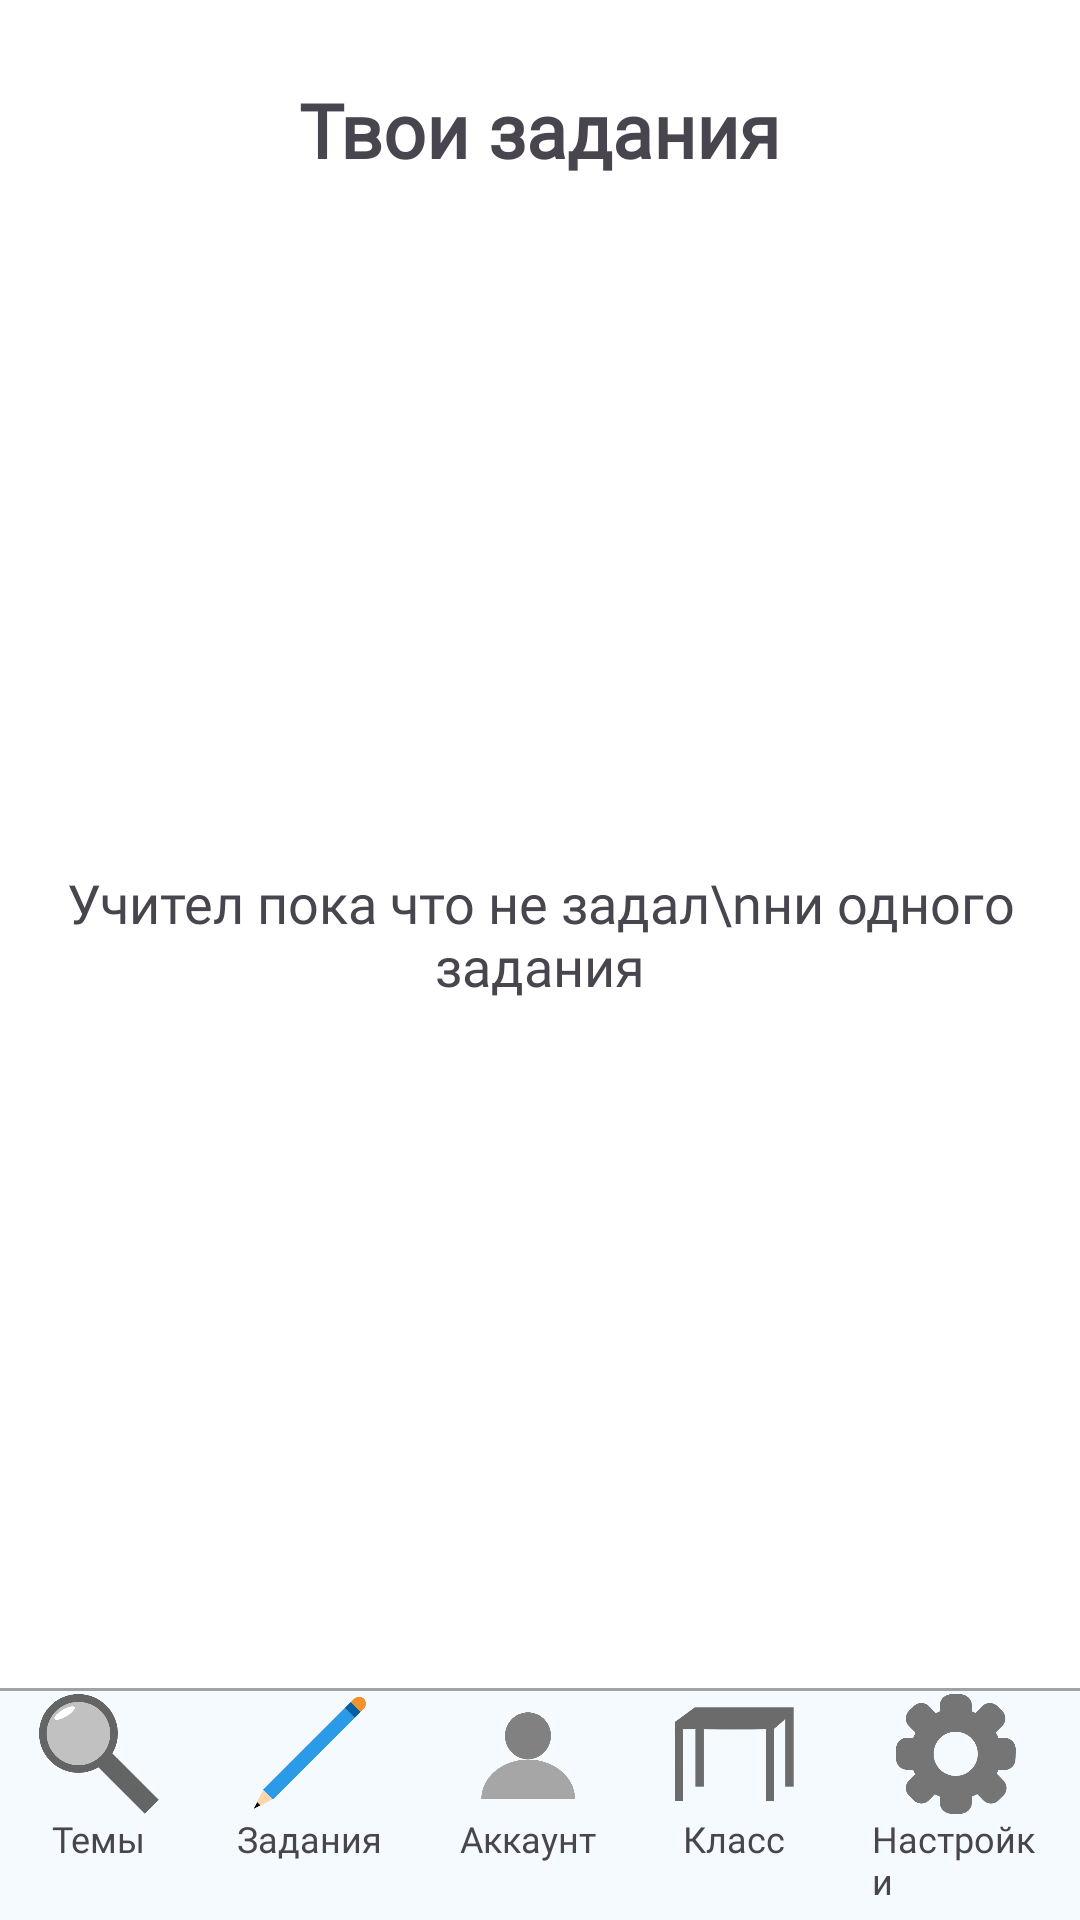

Icons on this 1080w x 1920h Android screen, each with the point to tap as (x,y):
desk: (734,1754)
pencil: (310,1753)
